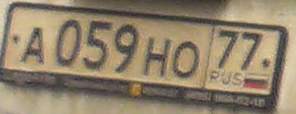character: (53, 18, 81, 69), (85, 20, 111, 73), (114, 23, 140, 76), (173, 36, 201, 82), (145, 35, 172, 82), (240, 31, 265, 74), (217, 28, 239, 75), (21, 25, 45, 66)
